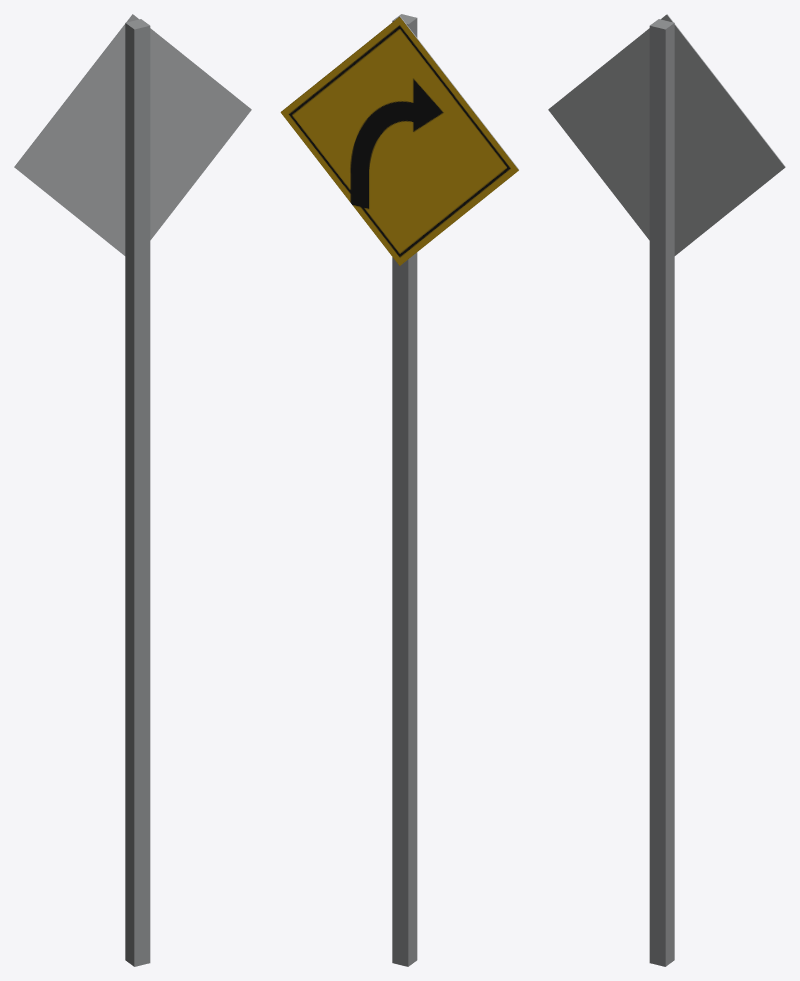
Rendered from sign_w1-2r_curve.glb.
3 renders of one model, left to right at view 1: azimuth 30°, elevation 25°; view 2: azimuth 150°, elevation 25°; view 3: azimuth 330°, elevation 25°, orthographic.
Parts seen in each view (by area): view 1: sign_w1-2r_curve; view 2: sign_w1-2r_curve; view 3: sign_w1-2r_curve.
Boxes of the visible parts, box(x1,y1,x2,y2) form: sign_w1-2r_curve: box(14, 14, 251, 966); sign_w1-2r_curve: box(280, 14, 518, 966); sign_w1-2r_curve: box(548, 14, 785, 966).
Bounding box in the file's own units: 0.762 × 2.9 × 0.0538.
Materials: 3 (1 with a texture image).
